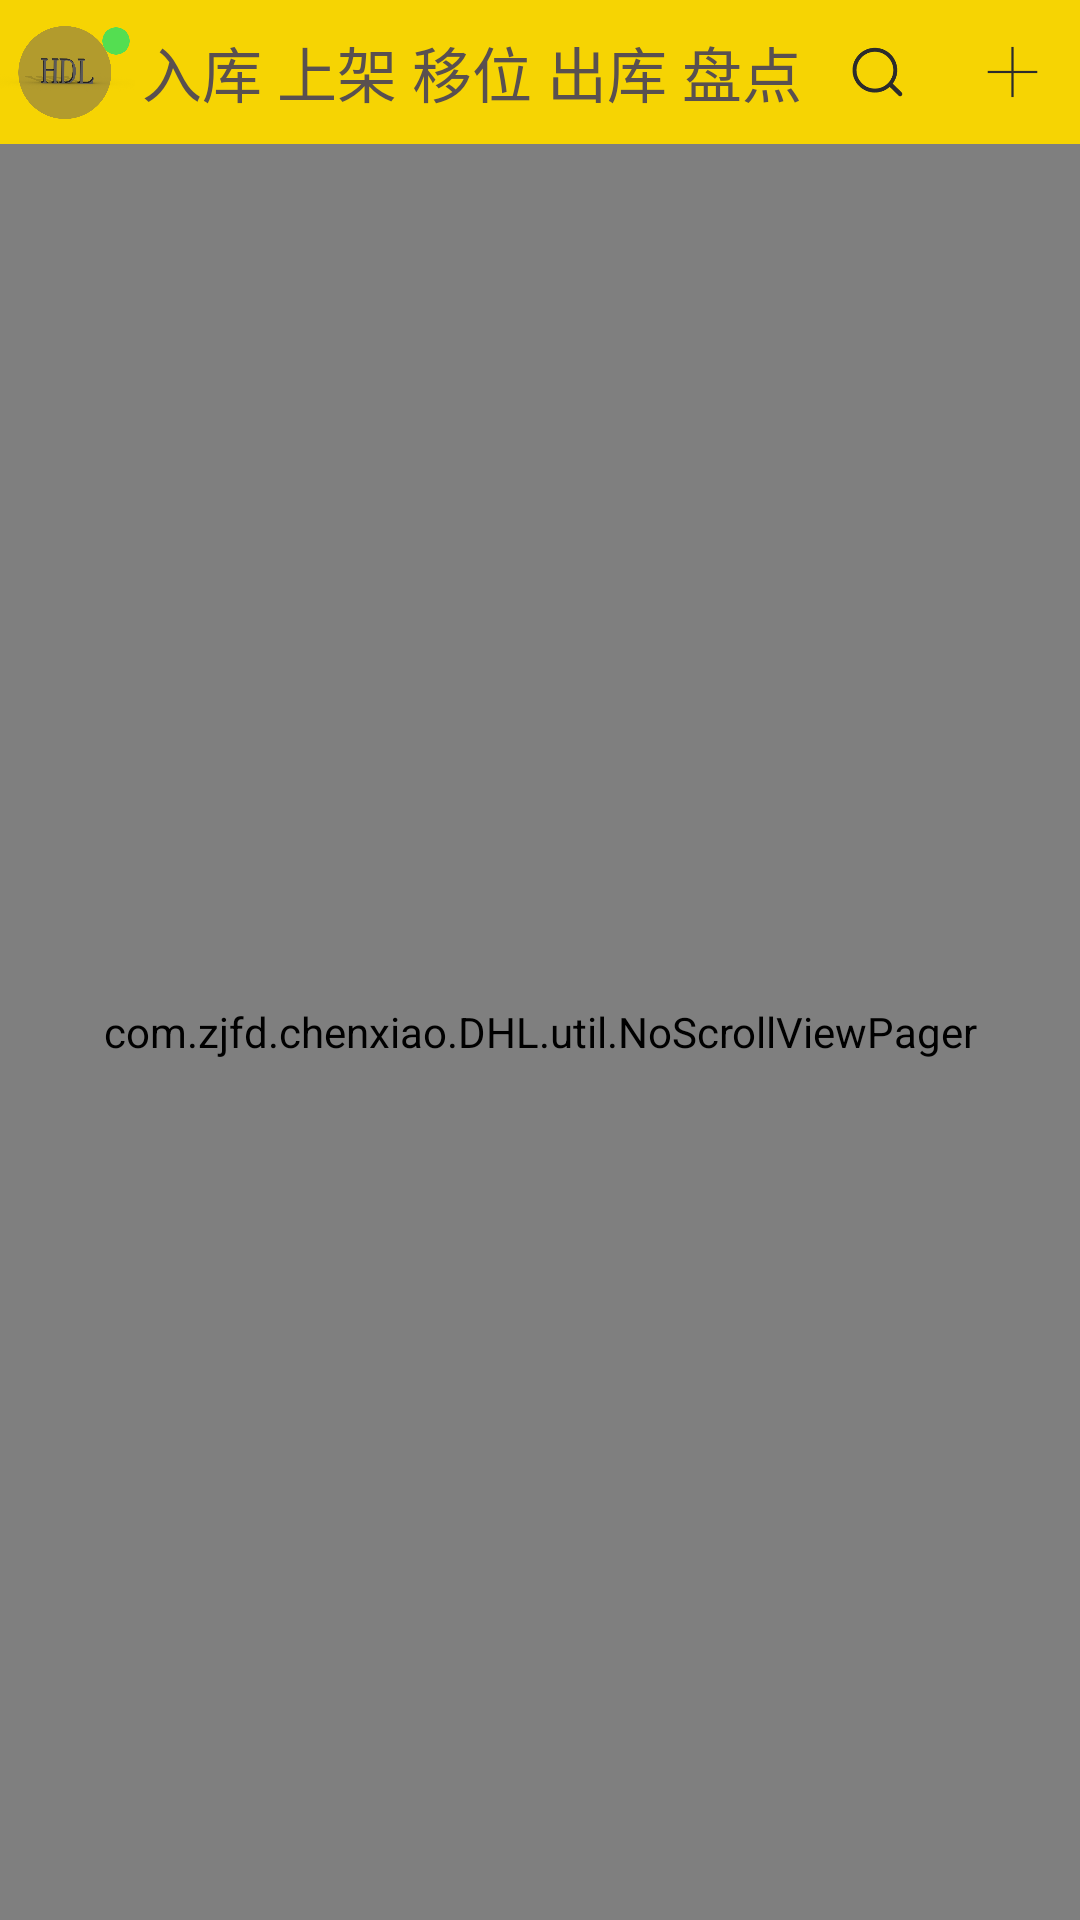

Named icons in this screenshot (1080w x 1920h) and their bounding boxes, box(x1, y1, x2, y2):
search: box(852, 48, 903, 97)
